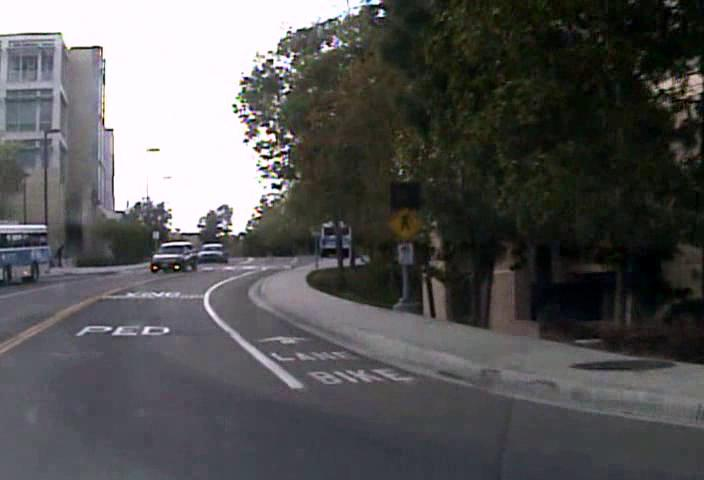pedestrianCrossing: (386, 206, 423, 241)
